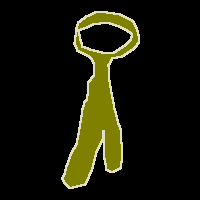tie: (62, 12, 139, 188)
